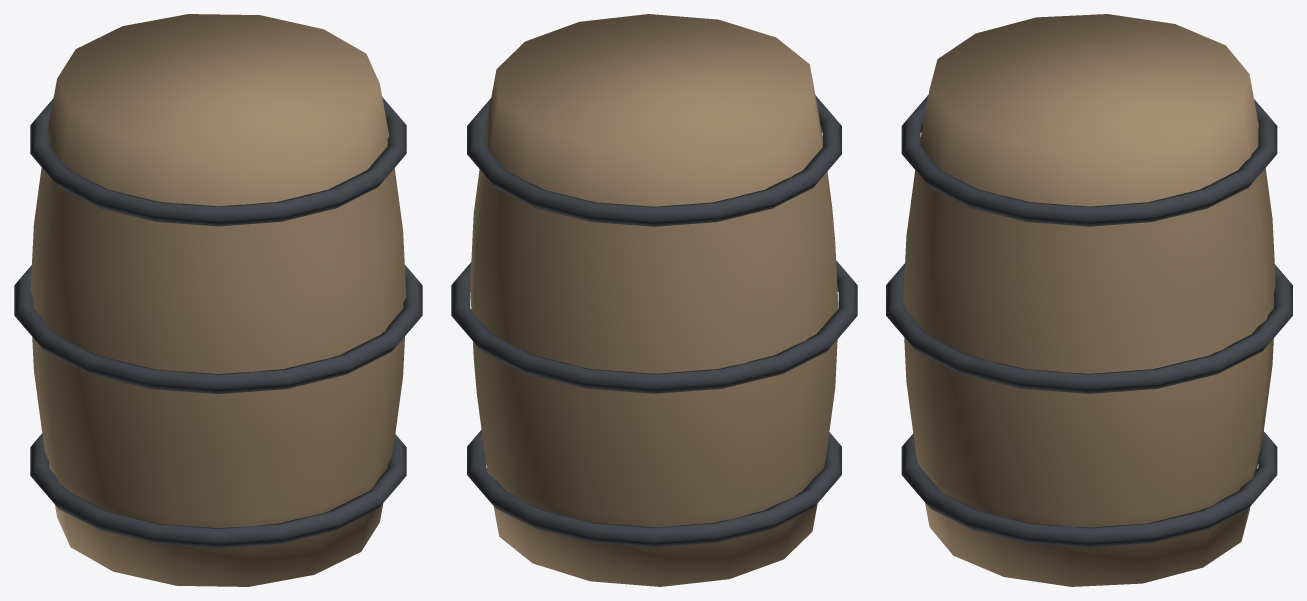
The model's file is Barrel.glb.
The picture shows the model from 3 angles, left to right: view 1: azimuth 30°, elevation 25°; view 2: azimuth 150°, elevation 25°; view 3: azimuth 270°, elevation 25°; orthographic projection.
Visible parts, largest first — view 1: Barrel; view 2: Barrel; view 3: Barrel.
Boxes of the visible parts, x1,y1,x2,y2 form: Barrel: (14,14,422,586); Barrel: (451,14,857,586); Barrel: (886,14,1292,586).
Bounding box in the file's own units: 0.77 × 0.9 × 0.7583.
